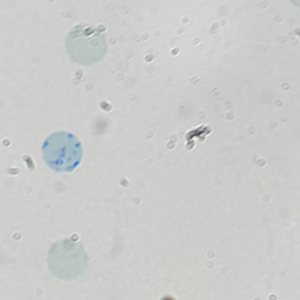aggregate reticulocyte: (40, 130, 85, 175)
erythrocyte: (44, 237, 91, 281), (64, 22, 109, 67)
